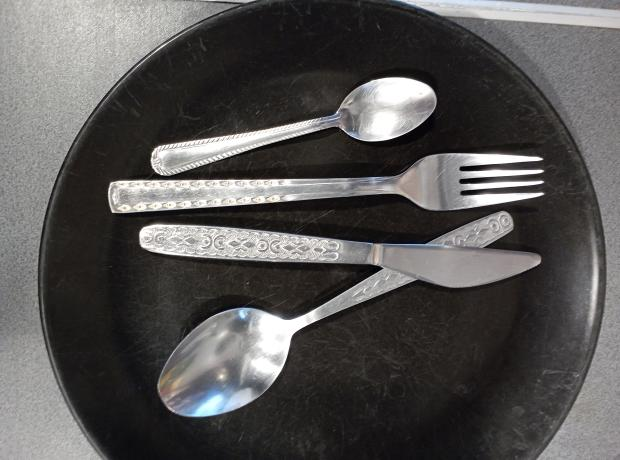metal: (158, 211, 516, 419), (150, 76, 440, 177), (137, 222, 542, 290), (108, 153, 544, 216)
